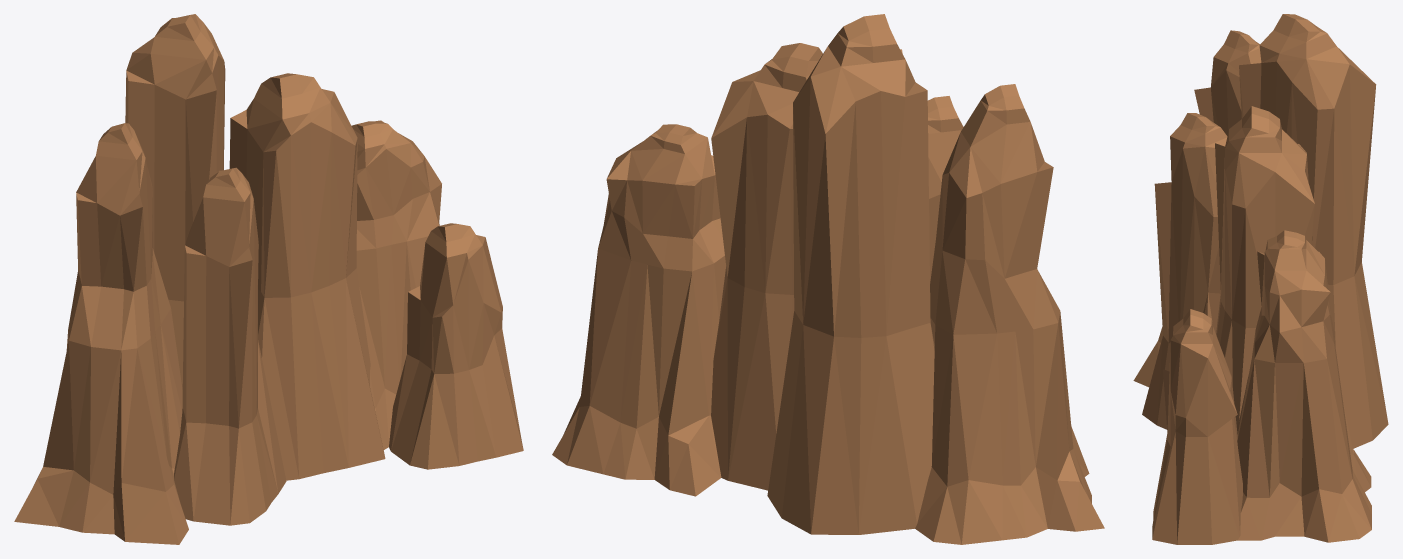
File: Rock_13.fbx
The picture shows the model from 3 angles, left to right: view 1: azimuth 30°, elevation 25°; view 2: azimuth 150°, elevation 25°; view 3: azimuth 270°, elevation 25°; orthographic projection. The views are drawn at different scales.
Visible parts, largest first — view 1: Rock_13; view 2: Rock_13; view 3: Rock_13.
Part boxes in pixels (bbox=[...]): Rock_13: bbox=[14, 14, 523, 544]; Rock_13: bbox=[552, 14, 1104, 544]; Rock_13: bbox=[1133, 14, 1388, 544].
Bounding box in the file's own units: 301 × 155 × 272.
